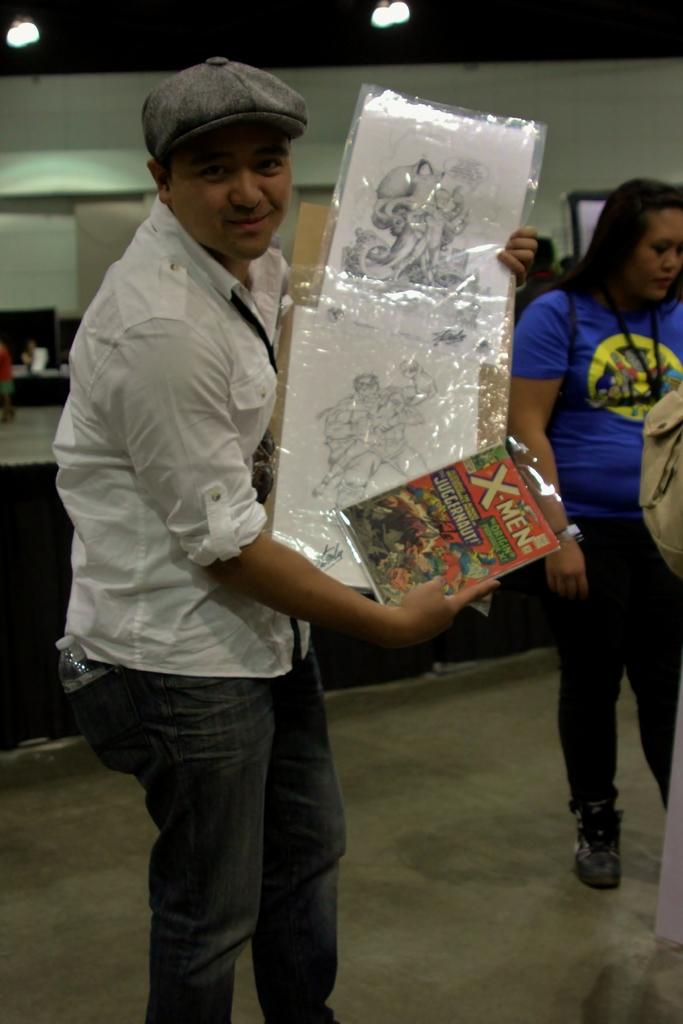Hat: (140, 56, 310, 165)
